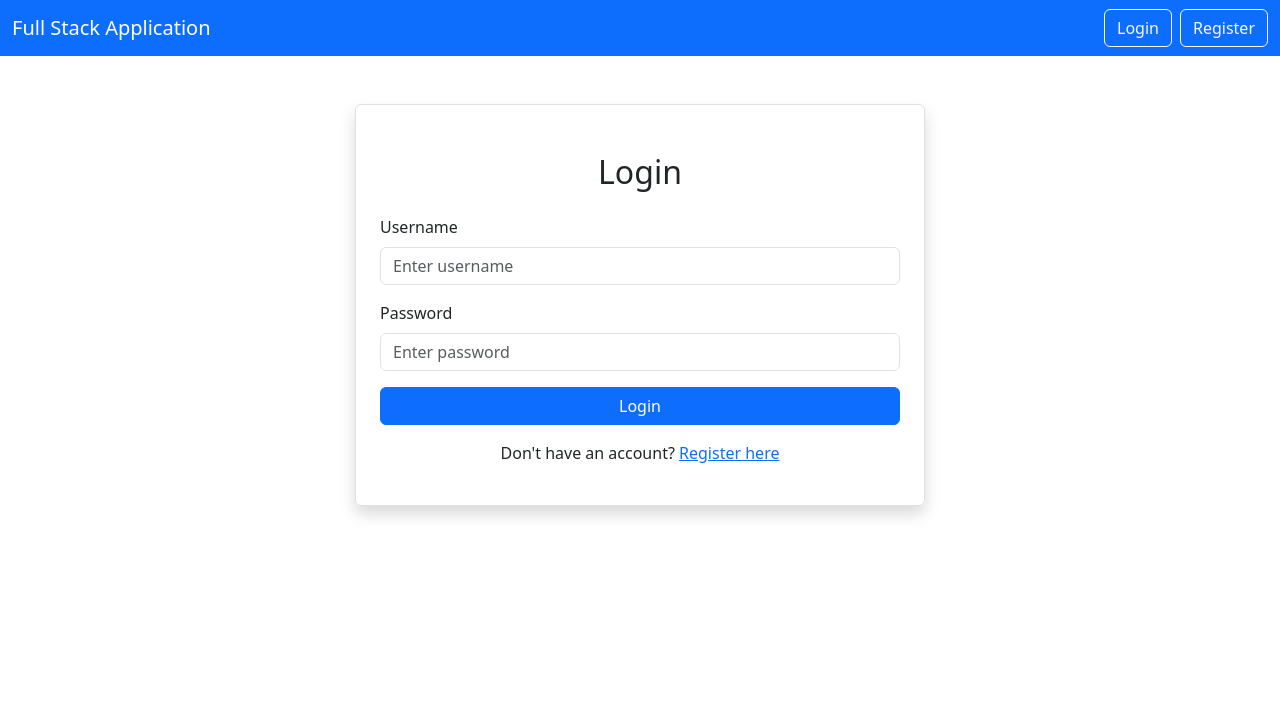
Test: Login Flow Automated Tests › a) Complete Login Flow Tests › TC_LOGIN_03: Should access protected routes when authenticated
Type "testuser123" into the field named "username" at (640,266), box [380,247,900,285]
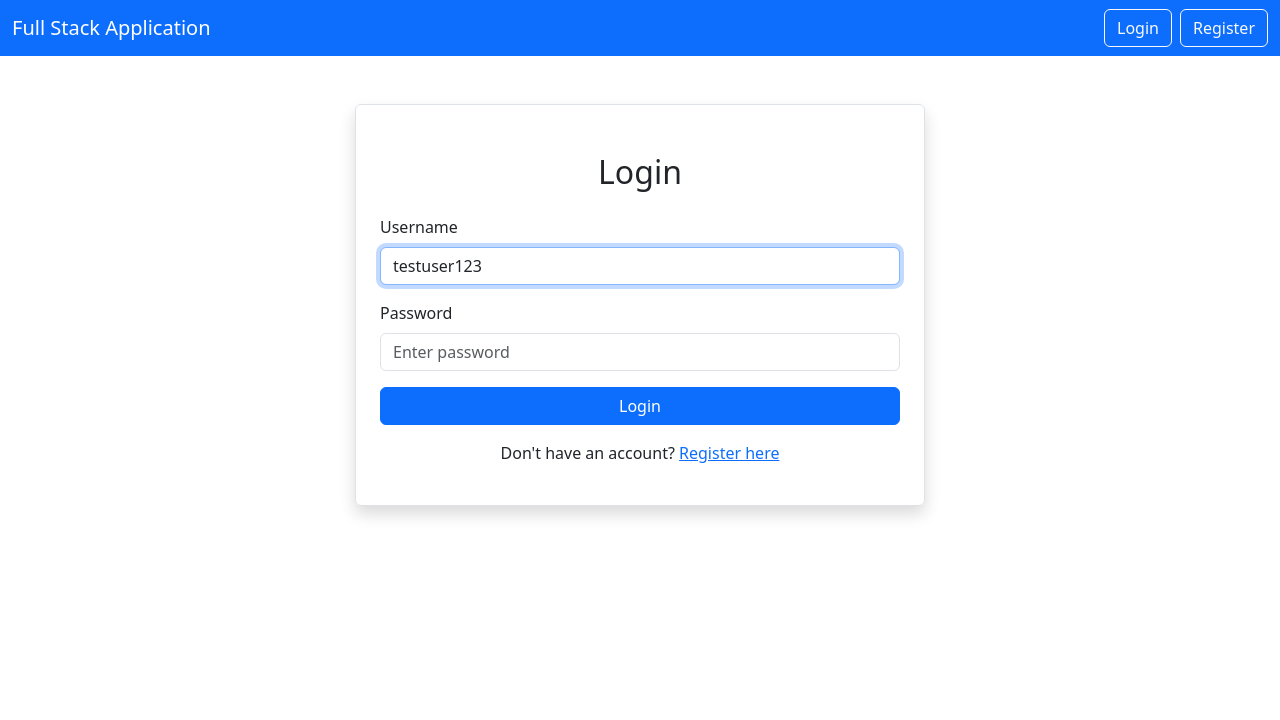
Type "password123" into the password field named "password" at (640,352), box [380,333,900,371]
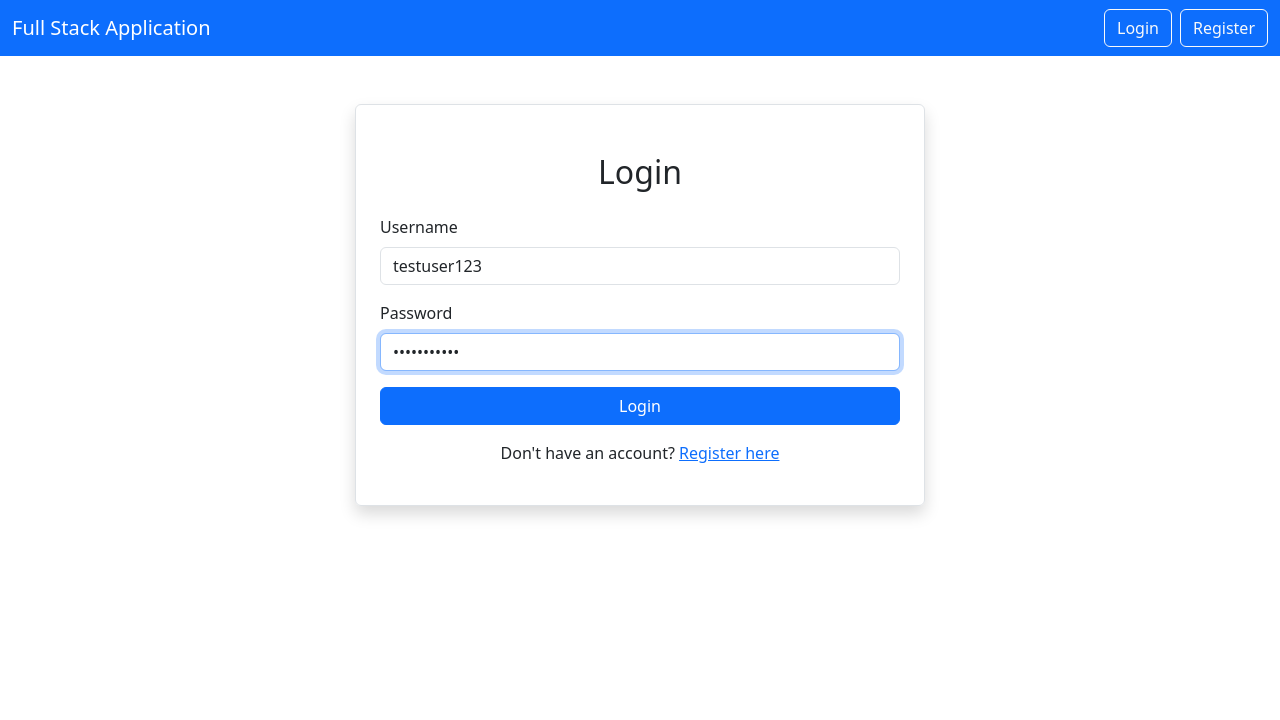
Click the submit button at (640,406), box [380,387,900,425]
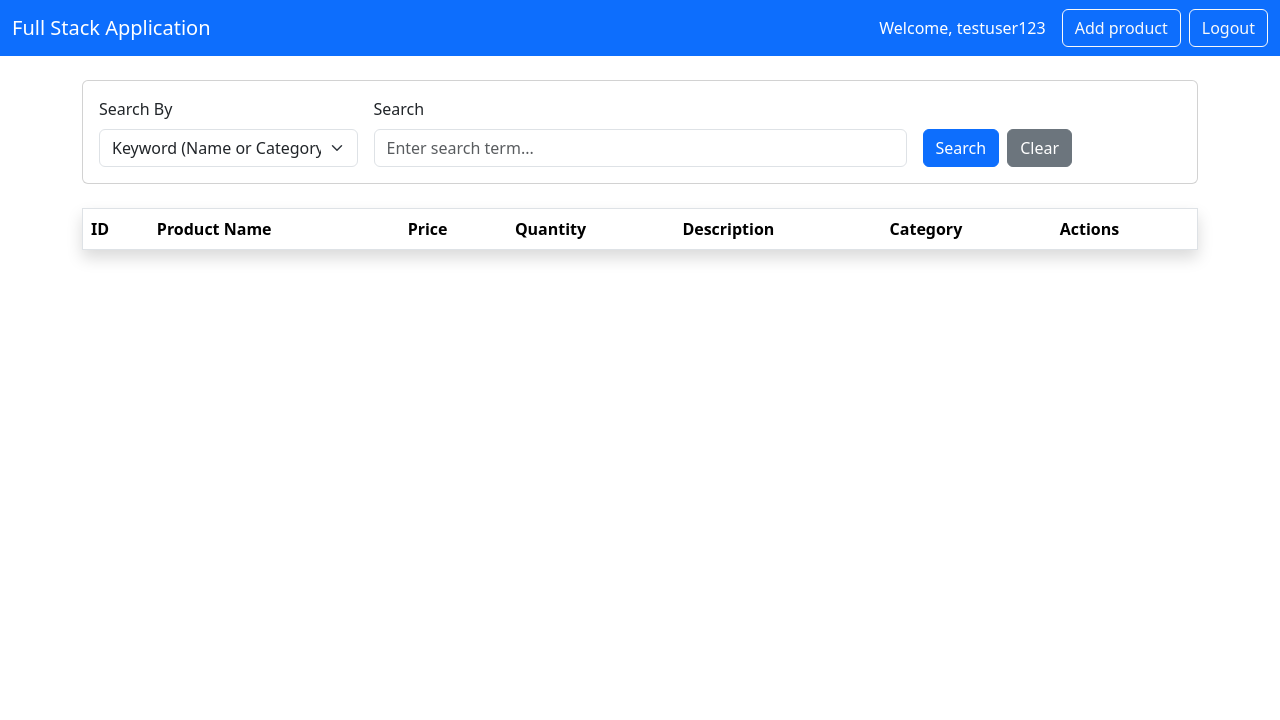
Open "http://localhost:3000/addproduct"
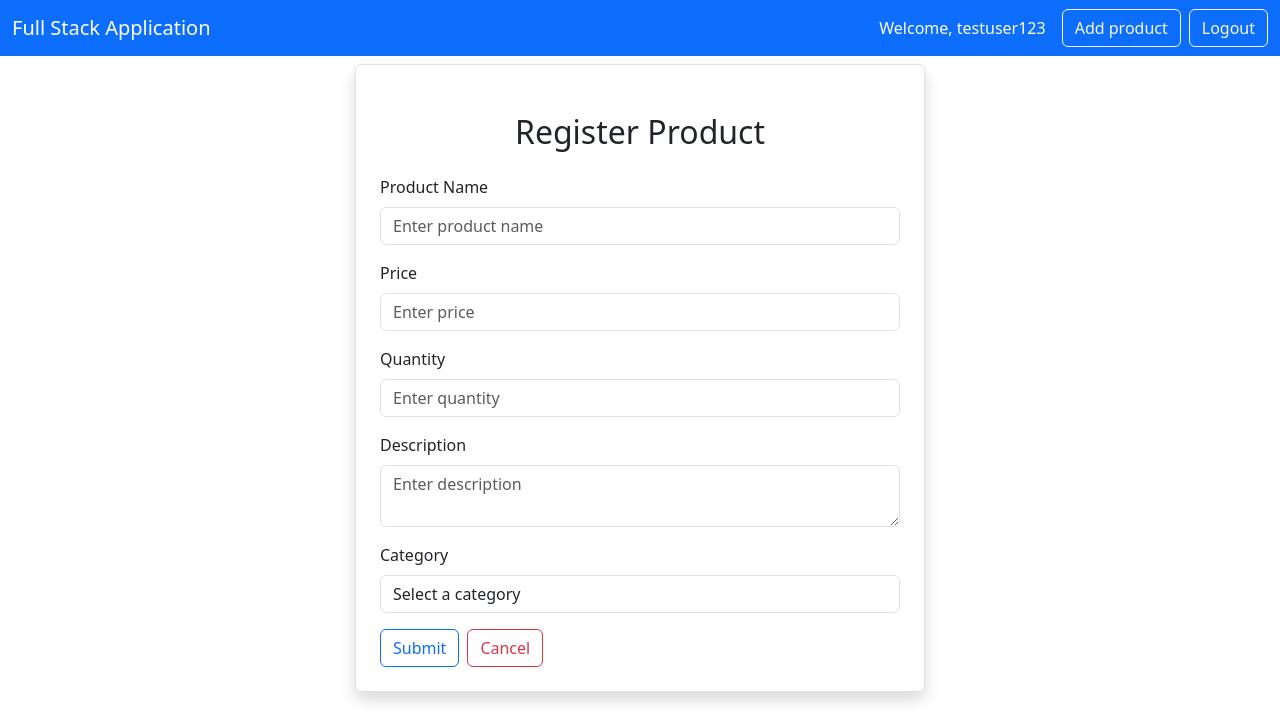
Check: the heading "Register Product" is shown, box [515,110,765,153]
